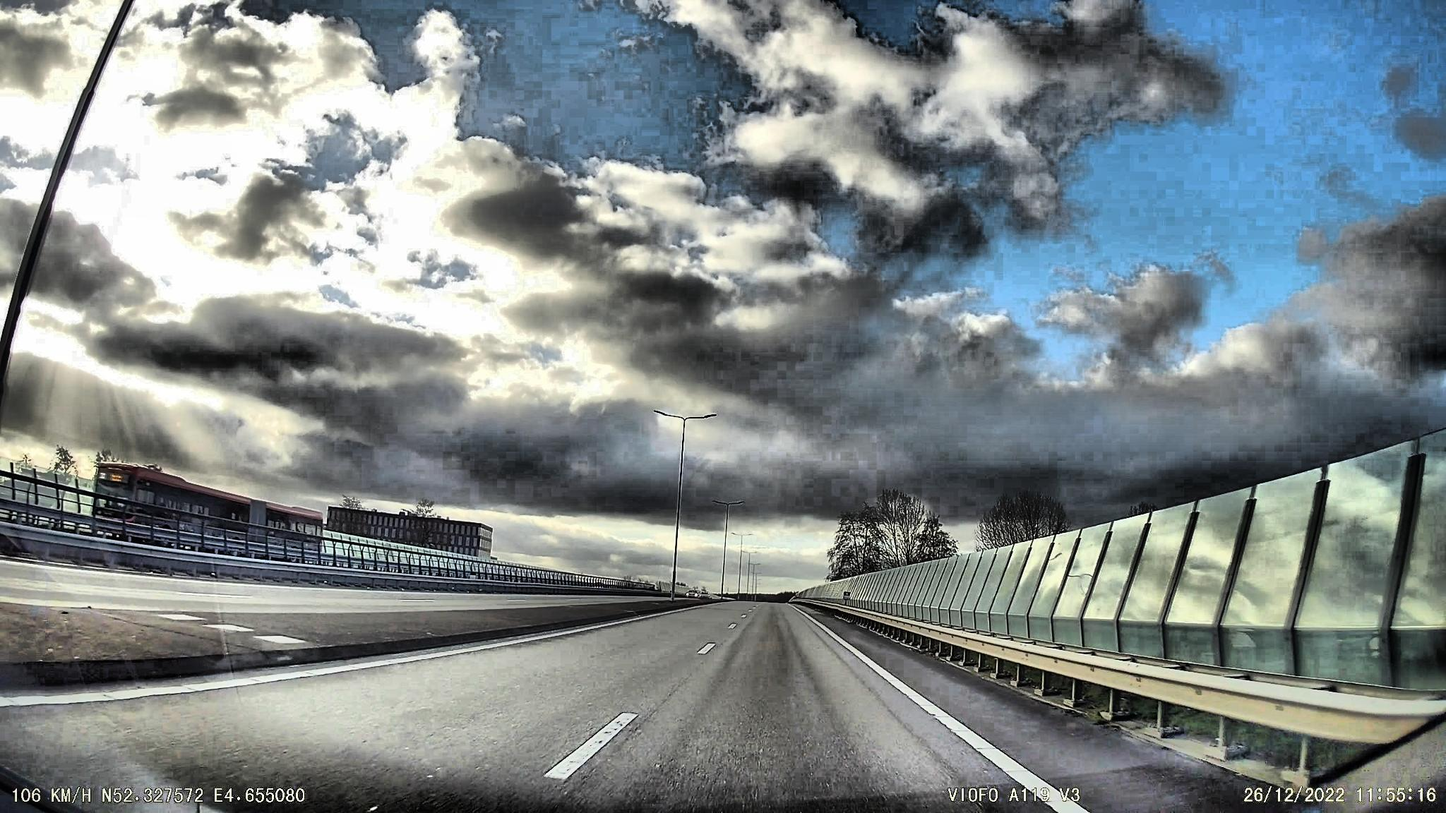Roads: (0, 603, 1446, 813)
